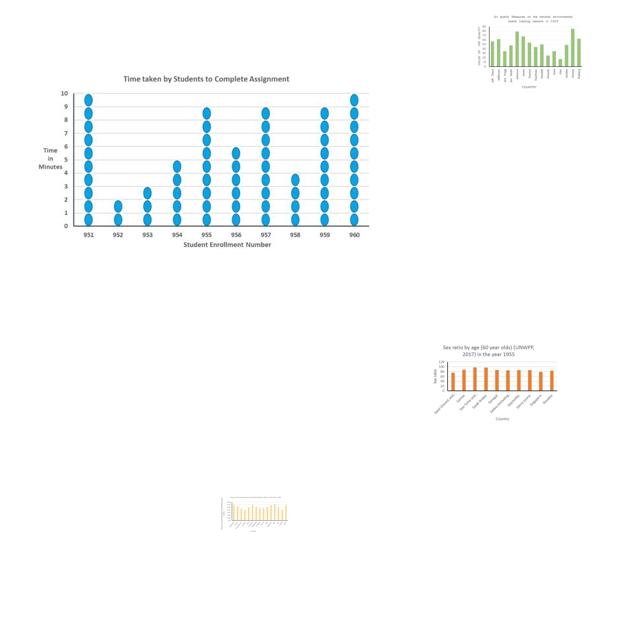Graph: (34, 71, 371, 249), (429, 342, 559, 424), (475, 13, 584, 91), (220, 494, 289, 533)
